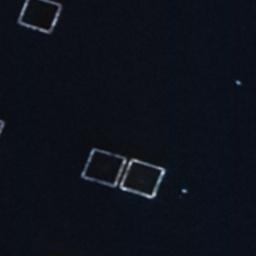square_solid: (75, 142, 131, 193), (117, 153, 170, 204), (14, 1, 65, 38)
